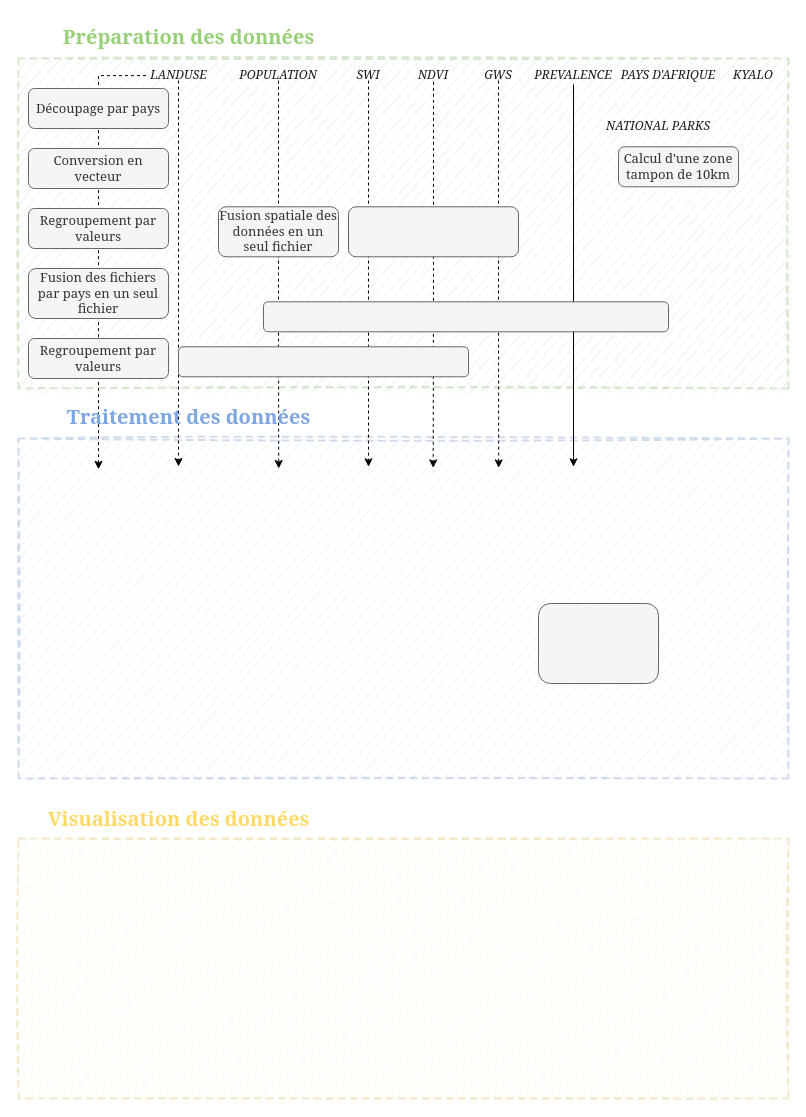
Some shapes in this 806 by 1117 pixel diagram are drawn without their labels. Each missing label, with the centre of its shape:
"Découpage de la donnée à l'échelle de l'Afrique" goes at [465,316].
"Dégradation de la résolution spatiale à 300m" goes at [323,361].
"Fusion temporelle des données en un seul fichier" goes at [433,231].
"Je ne garde que les villages qui se trouvent dans ces buffer (2733)" goes at [598,643].
